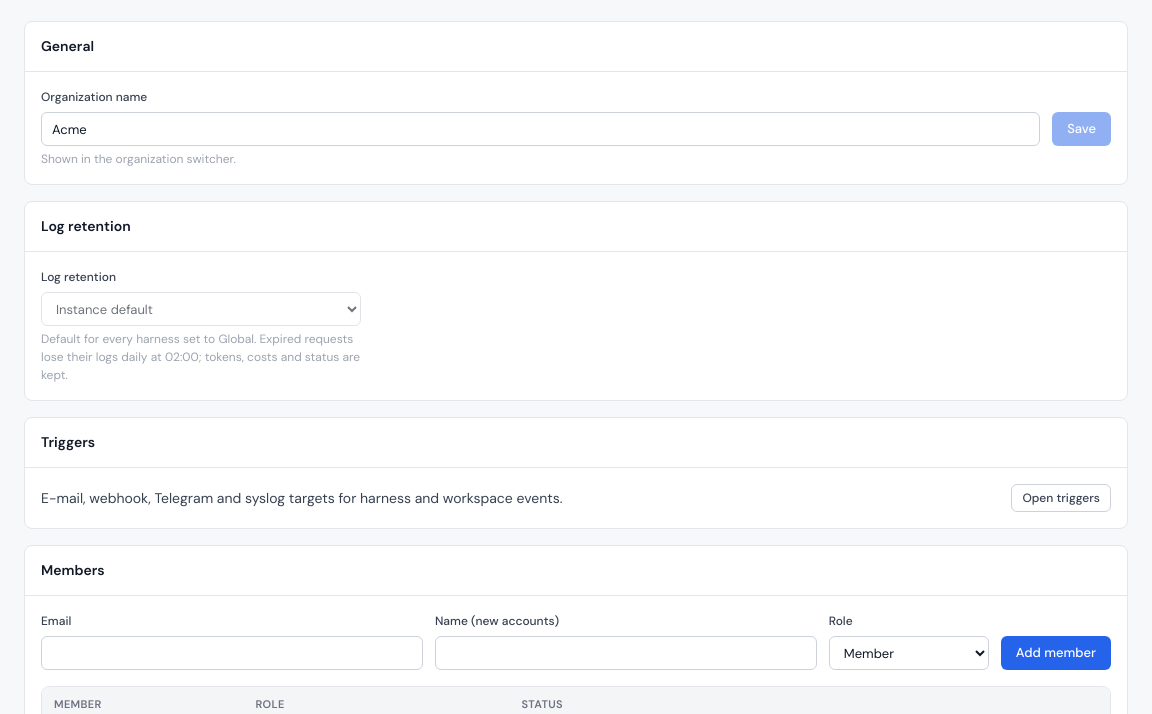
Test case: Organization page › shows the temporary password once after adding a member
Type "new@x.io" into the field labelled "Email" at (232, 653), box 41,636 -> 423,670
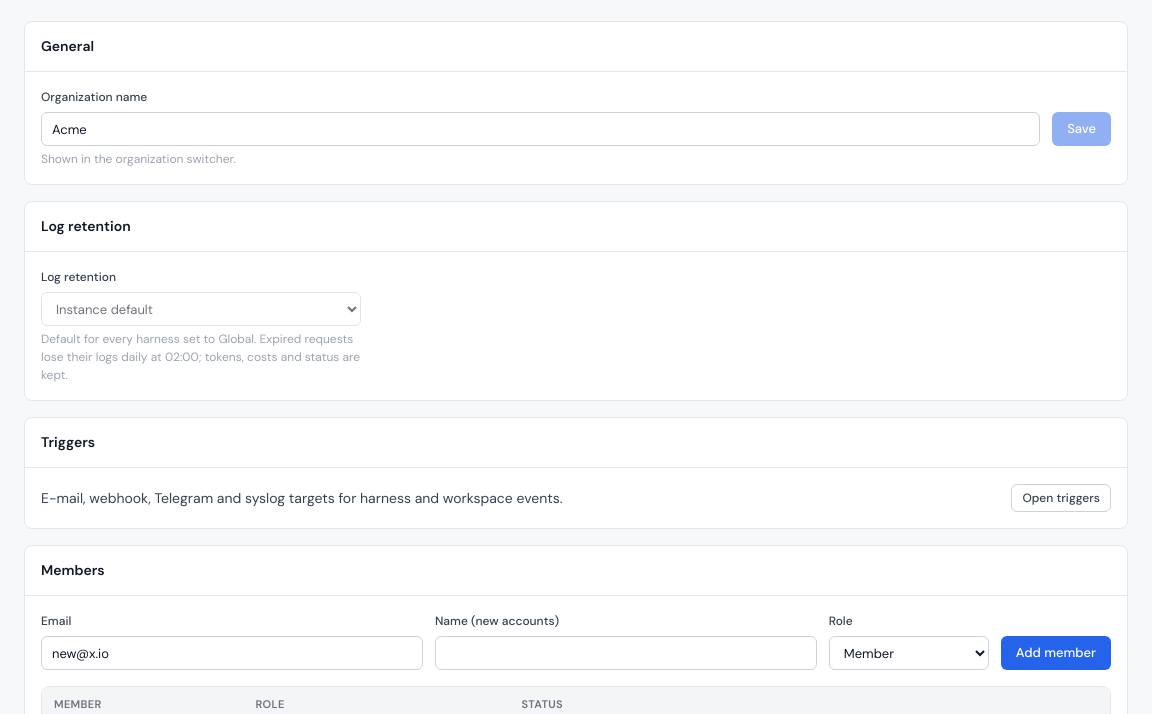
Submit the form "Add member", box 41,612 -> 1111,670
(page scrolled)
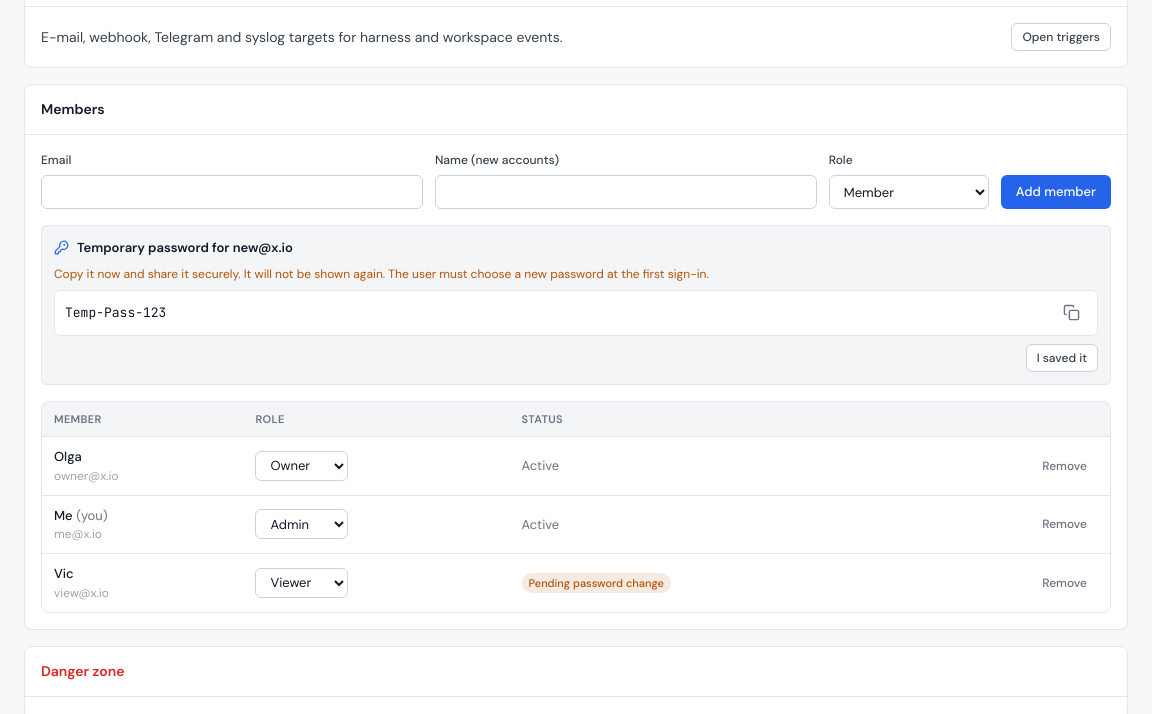
Check: the text with test id "temporary-password" reads "Temp-Pass-123", box 65,304 -> 166,321
Check: the button with class "copy-btn" is shown, box 1055,296 -> 1087,328
Click the button "I saved it" at (1062, 358), box 1026,344 -> 1098,372
(page scrolled)
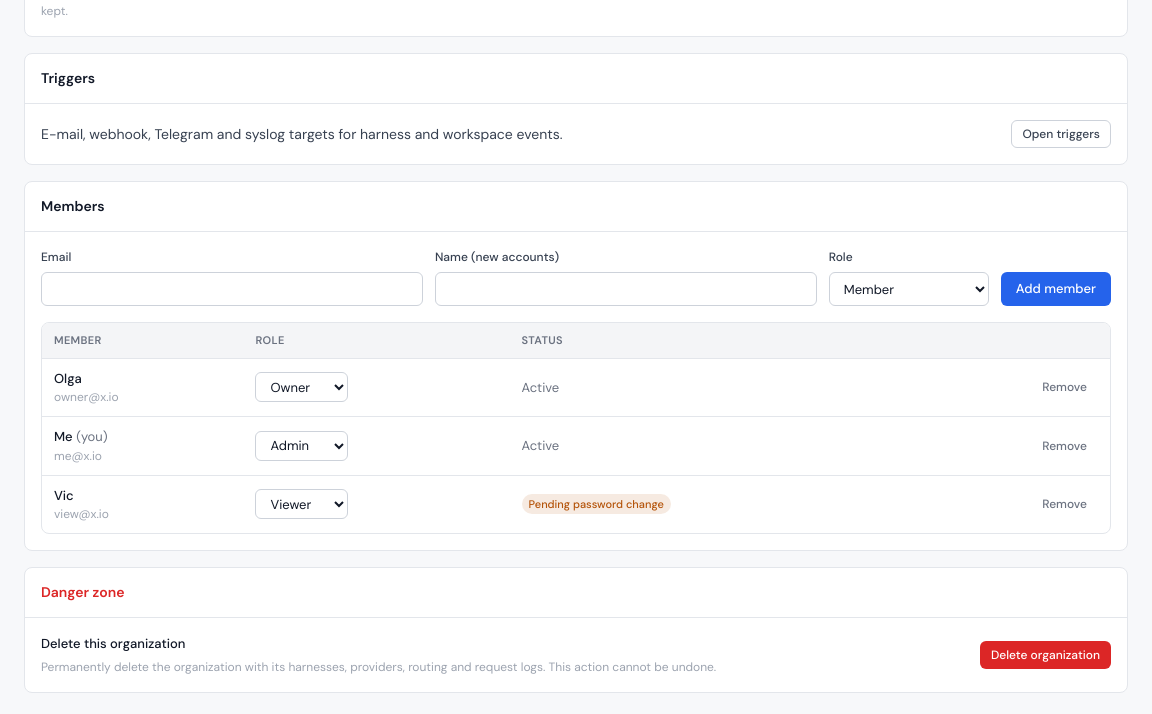
Check: the text with test id "temporary-password" is gone
